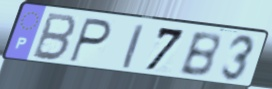3: (218, 32, 257, 86)
7: (142, 26, 188, 73)
B: (29, 11, 80, 64), (176, 32, 222, 79)
I: (120, 22, 146, 71)
P: (66, 16, 114, 65)
